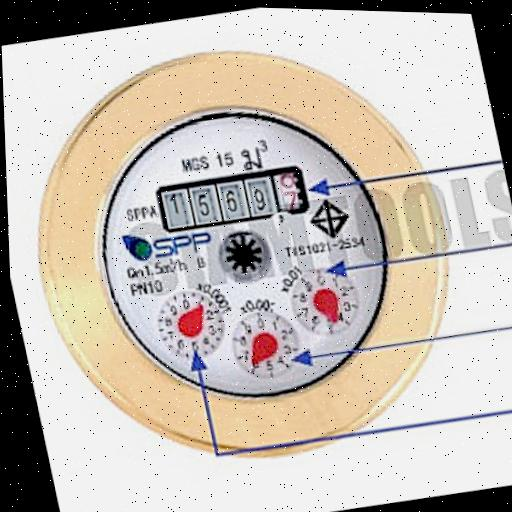1: (163, 192, 187, 227)
5: (192, 188, 216, 223)
6: (275, 170, 302, 211), (221, 182, 243, 218)
9: (248, 180, 271, 214)
border_water_meter_number: (152, 159, 313, 240)
